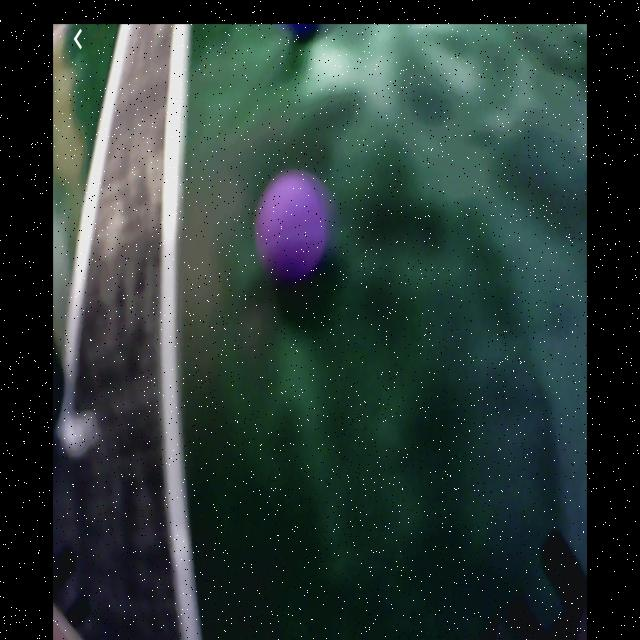ball: (256, 172, 330, 286), (283, 25, 322, 45)
